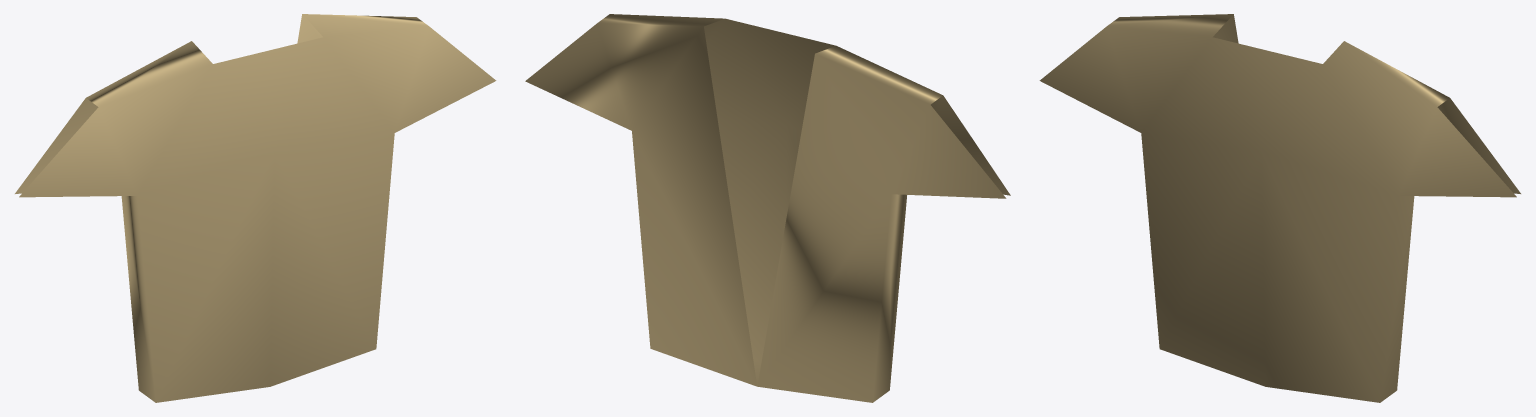
Rendered from kurta-traditional.glb.
3 renders of one model, left to right at view 1: azimuth 30°, elevation 25°; view 2: azimuth 150°, elevation 25°; view 3: azimuth 330°, elevation 25°, orthographic.
Visible parts, largest first — view 1: Heritage_Silk_Kurta; view 2: Heritage_Silk_Kurta; view 3: Heritage_Silk_Kurta.
Boxes of the visible parts, box(x1,y1,x2,y2) form: Heritage_Silk_Kurta: box(15, 14, 496, 402); Heritage_Silk_Kurta: box(525, 14, 1010, 402); Heritage_Silk_Kurta: box(1039, 14, 1520, 402).
Size of the model in its own units: 1.3 by 0.89 by 0.14.
